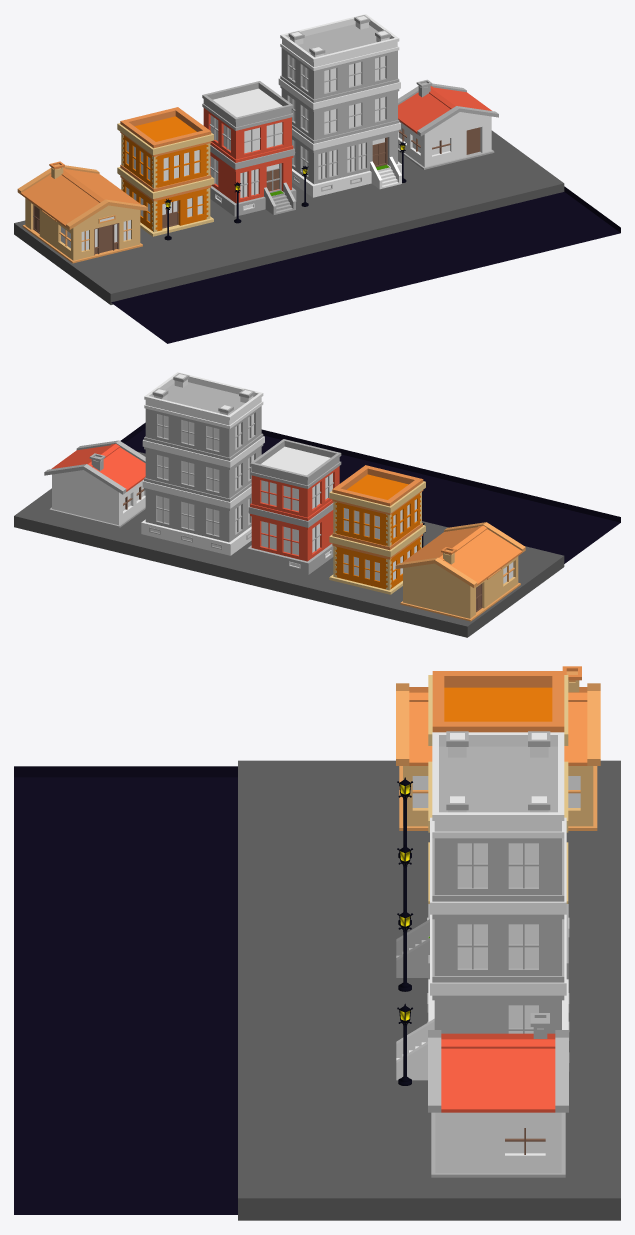
Rendered from Calle Encuentro.fbx.
3 renders of one model, top to bottom at view 1: azimuth 30°, elevation 25°; view 2: azimuth 150°, elevation 25°; view 3: azimuth 270°, elevation 25°, orthographic. The views are drawn at different scales.
Visible parts, largest first — view 1: Acera, Calle, Building_04, Building_03, Building_01, Building_05, Building_02; view 2: Building_04, Acera, Calle, Building_03, Building_01, Building_05, Building_02; view 3: Acera, Calle, Building_04, Building_02, Building_01, Building_05, Building_03.
Boxes of the visible parts, bbox=[...] form: Acera: bbox=[14, 130, 564, 304]; Calle: bbox=[111, 186, 620, 343]; Building_04: bbox=[278, 14, 401, 197]; Building_03: bbox=[202, 81, 296, 216]; Building_01: bbox=[117, 107, 214, 236]; Building_05: bbox=[17, 161, 147, 263]; Building_02: bbox=[398, 79, 498, 169]; Building_04: bbox=[141, 372, 264, 555]; Acera: bbox=[14, 451, 564, 637]; Calle: bbox=[120, 422, 620, 563]; Building_03: bbox=[247, 439, 341, 574]; Building_01: bbox=[329, 465, 425, 594]; Building_05: bbox=[395, 522, 525, 621]; Building_02: bbox=[44, 440, 145, 527]; Acera: bbox=[238, 760, 620, 1220]; Calle: bbox=[14, 766, 237, 1214]; Building_04: bbox=[396, 731, 569, 1080]; Building_02: bbox=[428, 1013, 568, 1177]; Building_01: bbox=[428, 671, 568, 903]; Building_05: bbox=[396, 666, 600, 830]; Building_03: bbox=[396, 904, 569, 979].
Bounding box in the file's own units: 3072 × 977 × 1795.
